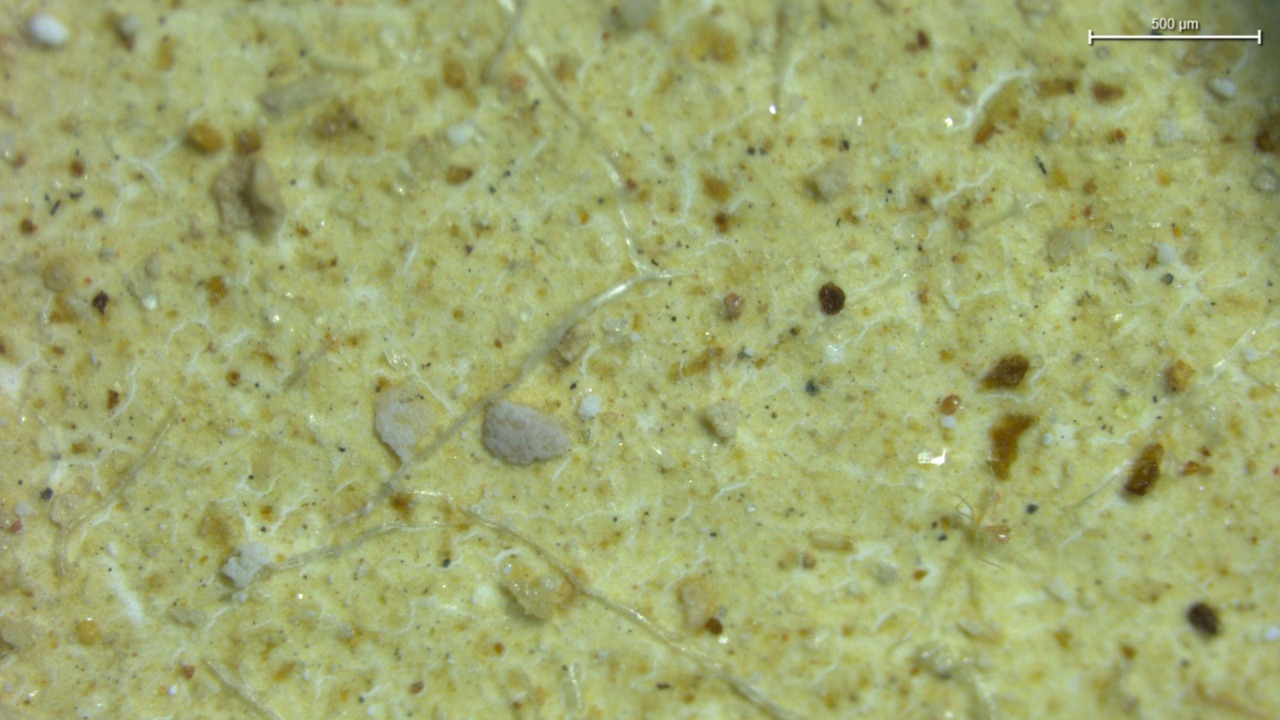microplastic_fragment: (482, 403, 575, 468), (374, 382, 444, 464), (508, 573, 565, 625), (225, 544, 269, 590), (703, 399, 738, 438), (579, 393, 601, 421)
